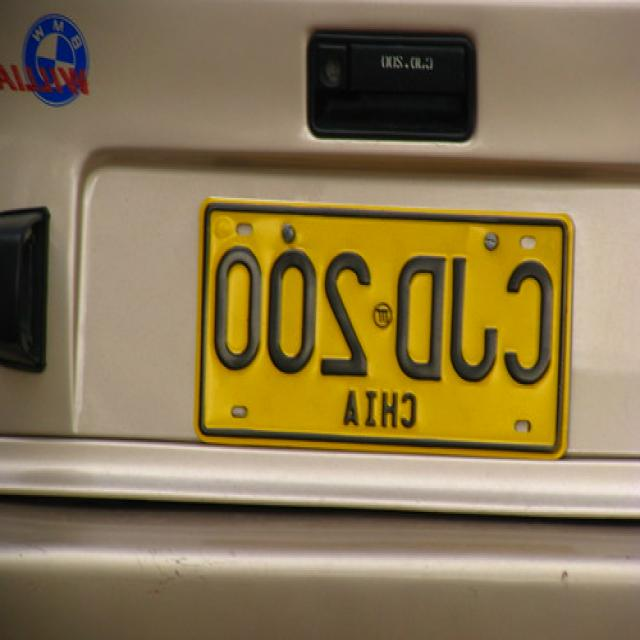placas: (202, 206, 568, 388)
